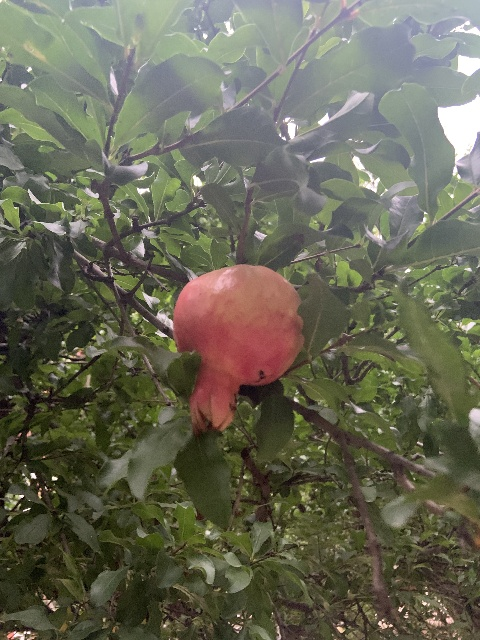ripe: (172, 264, 305, 433)
